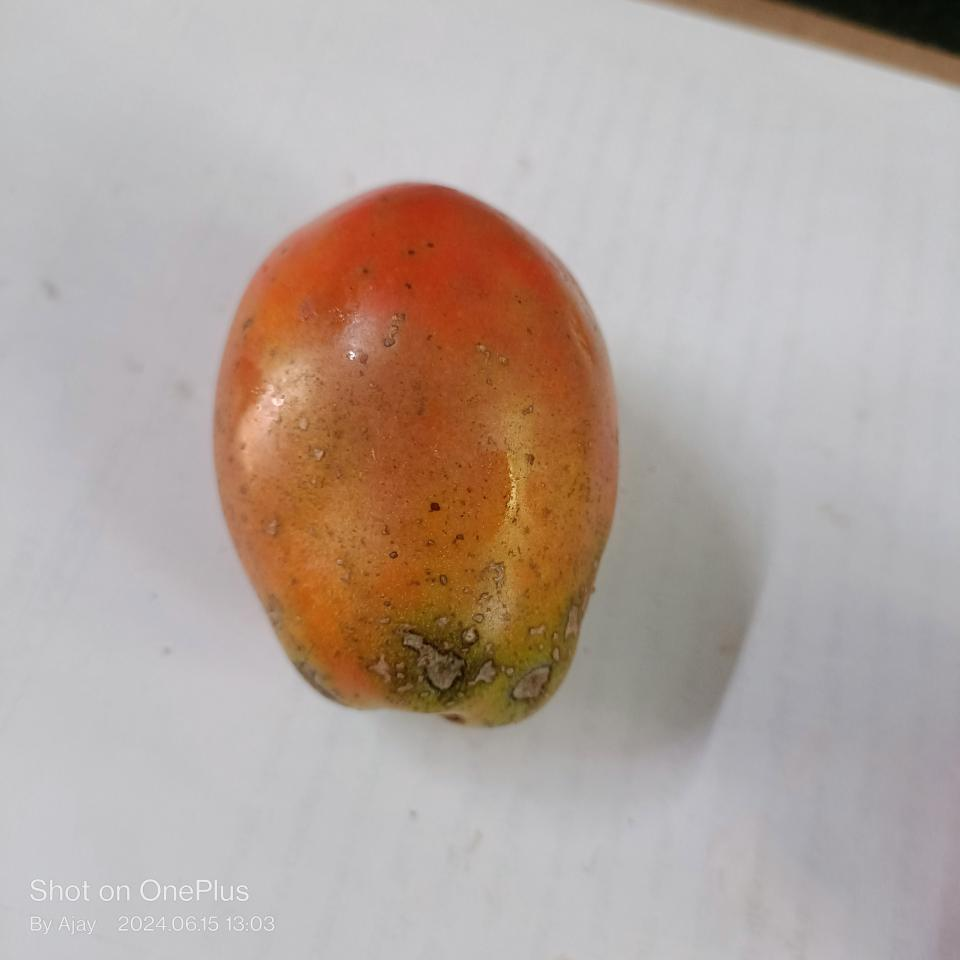Bacterial_Spot: (358, 619, 503, 704), (509, 661, 550, 702), (564, 605, 582, 639)
